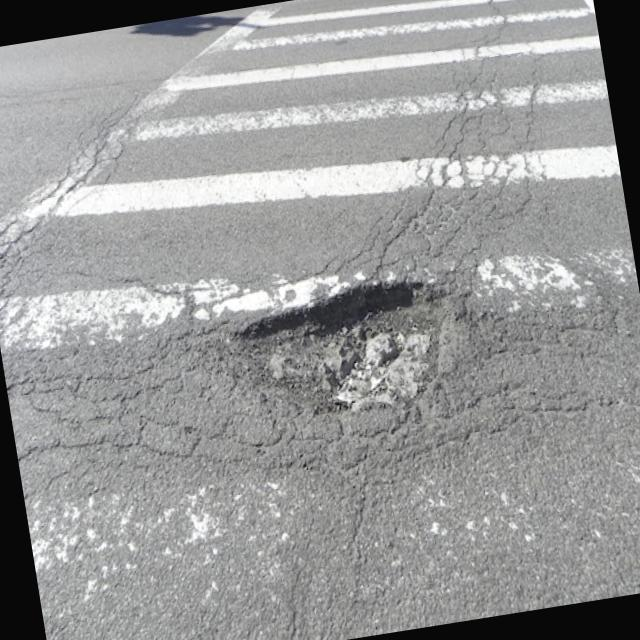bad-road: (300, 0, 570, 279), (4, 318, 258, 506), (234, 272, 456, 430), (0, 98, 174, 292), (258, 386, 584, 484), (446, 276, 640, 392)
